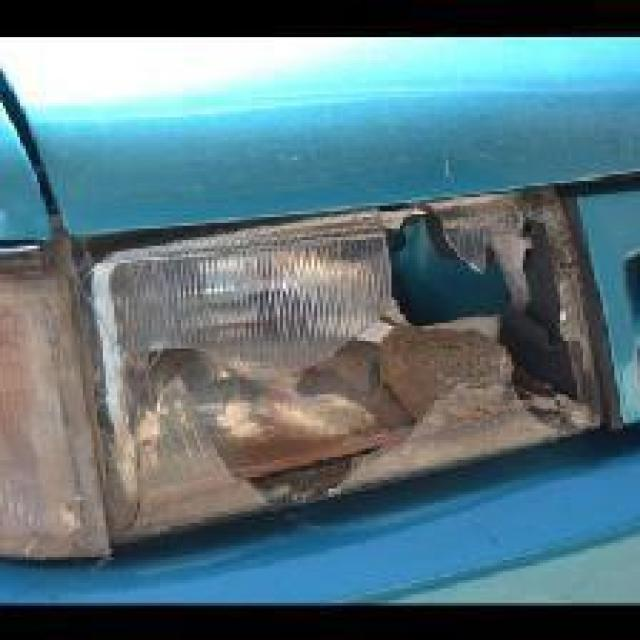damaged: (126, 200, 592, 514)
